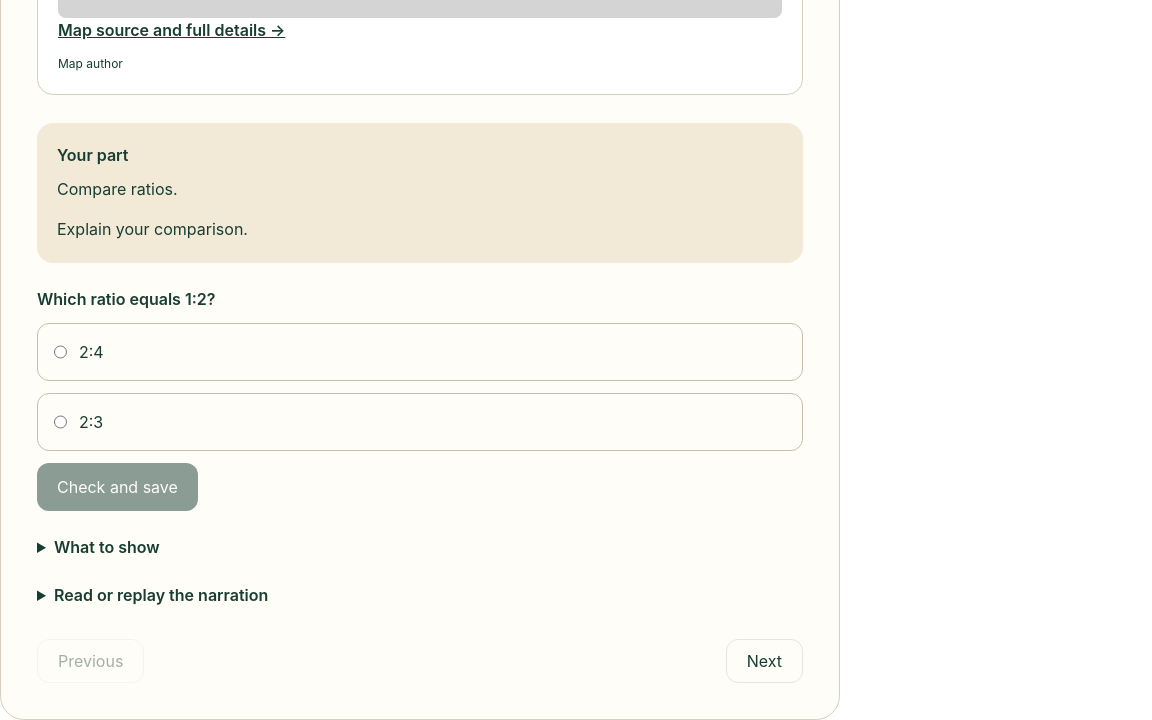
Scenario: Fresh classroom › shows attached book and map resources on their own page only
(page scrolled)
Click the button "Next" at {"x": 764, "y": 661}, box [726, 639, 803, 683]
(page scrolled)
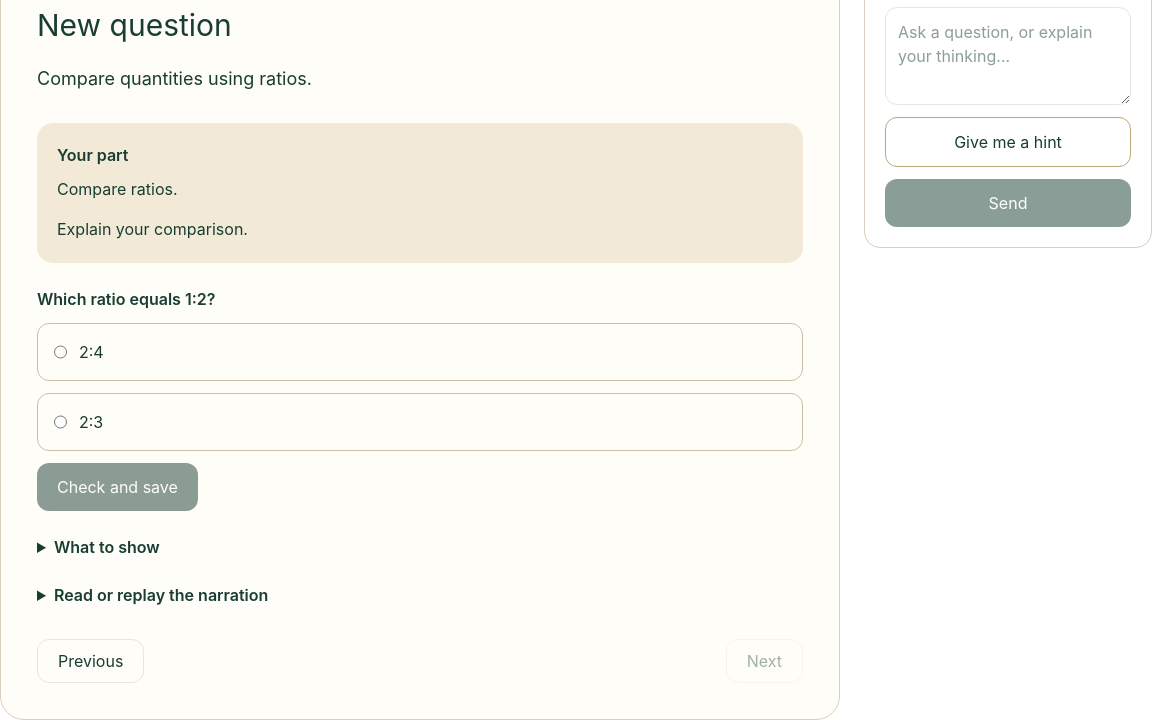
Check: the heading "New question" is shown, box [37, 7, 232, 43]
